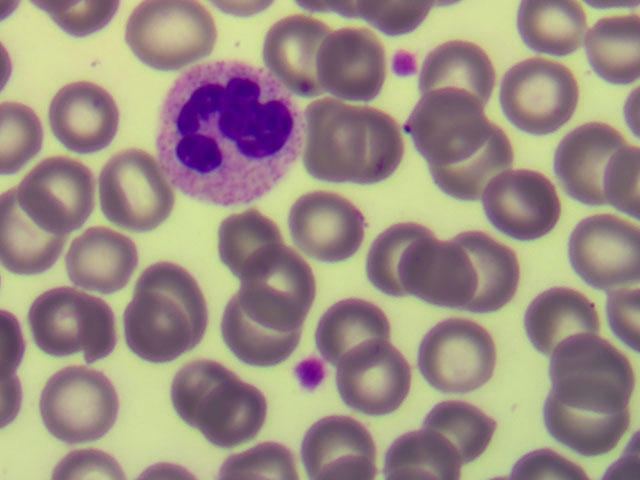Platelets: (290, 356, 330, 394), (388, 45, 424, 83)
RBC: (301, 401, 387, 480), (44, 79, 130, 157), (20, 153, 106, 231), (97, 150, 183, 228), (63, 214, 149, 292), (29, 281, 115, 359), (121, 295, 207, 373), (136, 251, 222, 329), (43, 365, 129, 443), (160, 349, 246, 427), (191, 374, 277, 452), (211, 298, 297, 376), (242, 248, 328, 326), (210, 208, 296, 286), (287, 186, 373, 264), (332, 108, 418, 186), (291, 96, 377, 174), (306, 24, 392, 102), (265, 11, 351, 89), (419, 28, 505, 106), (411, 82, 497, 160), (441, 119, 527, 197), (464, 163, 550, 241), (443, 231, 529, 309), (402, 241, 488, 319), (358, 222, 444, 300), (319, 286, 405, 364), (333, 338, 419, 416), (411, 320, 497, 398), (427, 389, 513, 467), (540, 381, 626, 459), (547, 334, 633, 412), (507, 283, 593, 361), (554, 216, 640, 294), (548, 117, 634, 195), (508, 66, 594, 144), (1, 193, 86, 271), (126, 1, 212, 78), (510, 1, 596, 78), (588, 11, 640, 82)
WBC: (156, 58, 306, 202)
